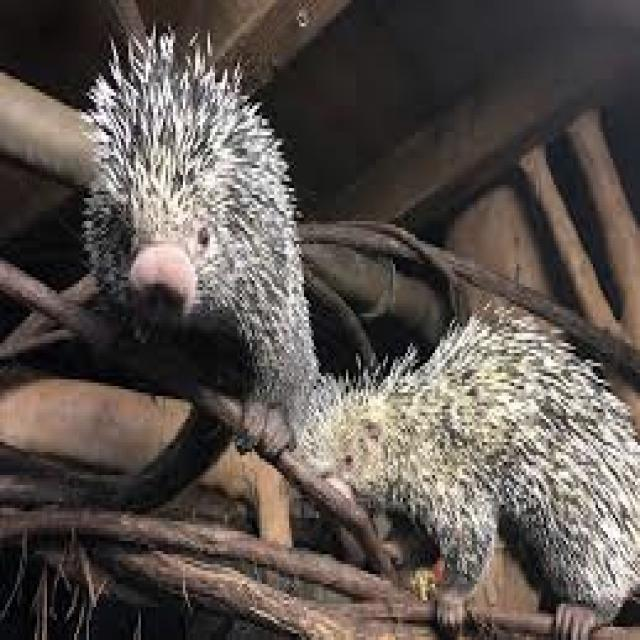porcupine: (299, 313, 638, 617), (84, 30, 316, 452)
